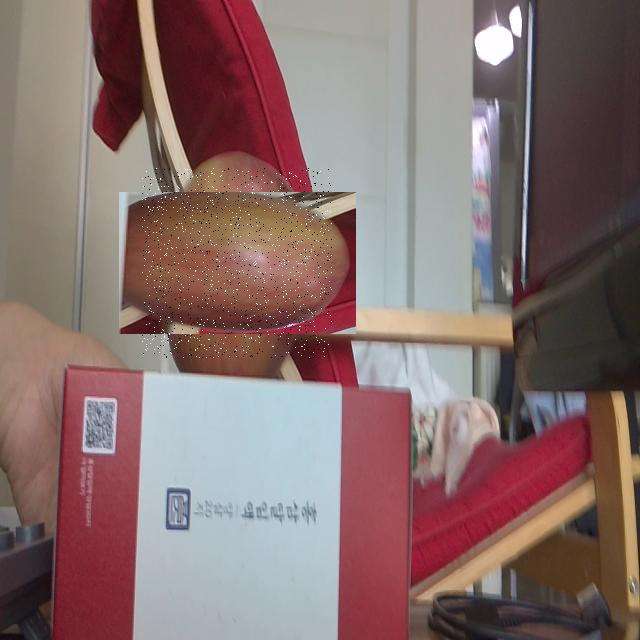apple: (142, 168, 332, 358)
